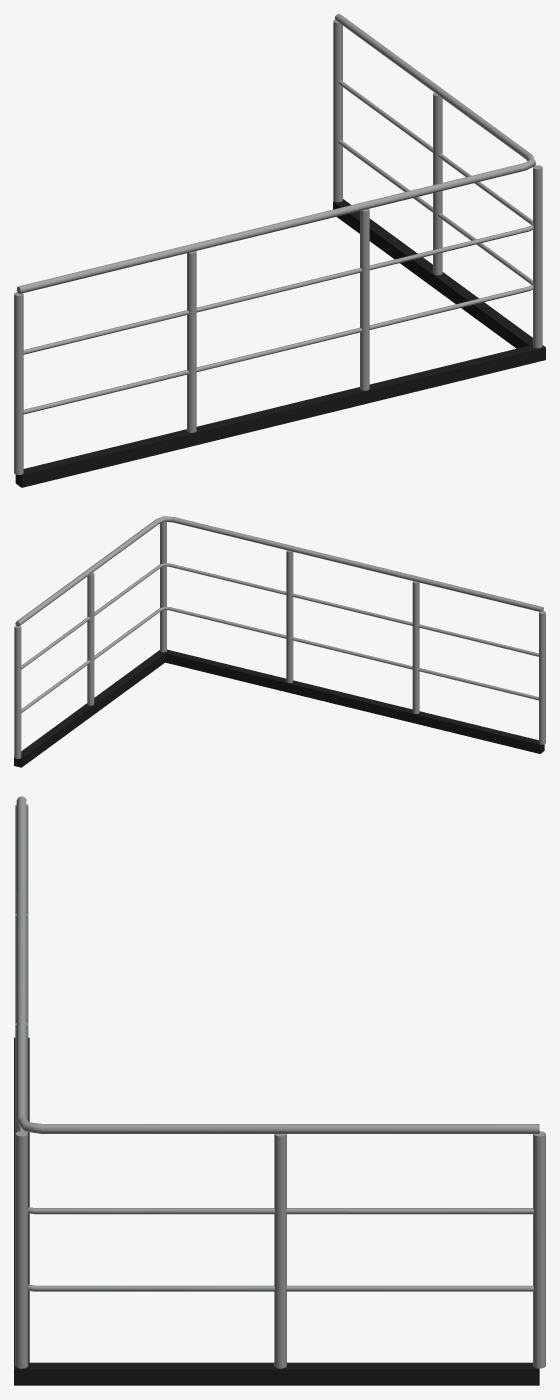
Rendered from gteki_railing_run_steel_h1100_l3000x2000.glb.
The picture shows the model from 3 angles, top to bottom: view 1: azimuth 30°, elevation 25°; view 2: azimuth 150°, elevation 25°; view 3: azimuth 270°, elevation 25°; orthographic projection. The views are drawn at different scales.
Parts seen in each view (by area): view 1: VIS_body; view 2: VIS_body; view 3: VIS_body.
Boxes of the visible parts, x1=… form: VIS_body: x1=14, y1=14, x2=545, y2=487; VIS_body: x1=14, y1=516, x2=545, y2=767; VIS_body: x1=14, y1=796, x2=545, y2=1385.
Size of the model in its own units: 3.05 by 1.1 by 2.06.
Materials: 1 (1 with a texture image).
